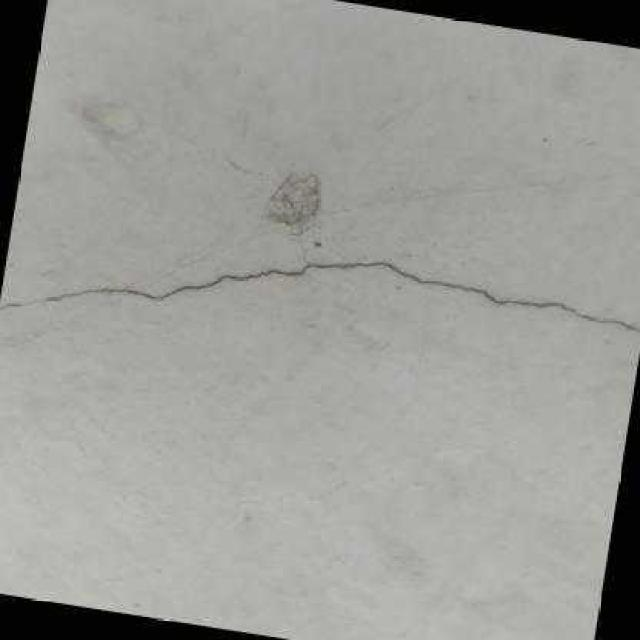D00: (0, 261, 640, 330)
